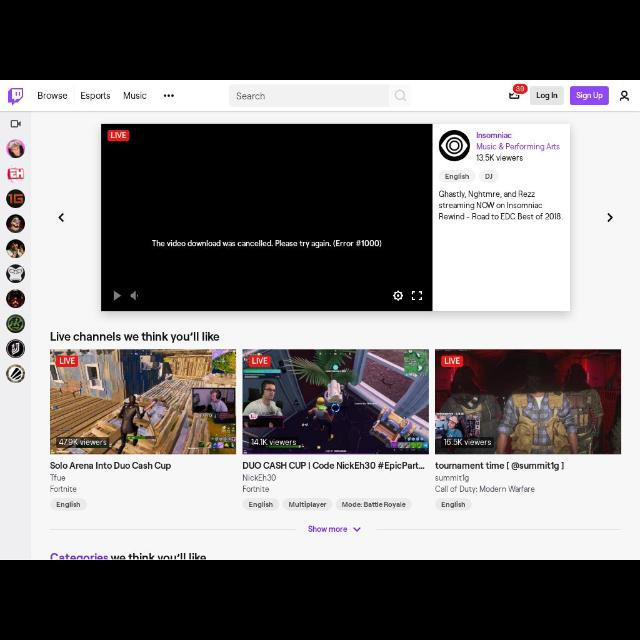button: (164, 93, 174, 99)
icon: (394, 88, 406, 102), (619, 90, 629, 102), (514, 84, 528, 92), (507, 92, 519, 100), (10, 120, 22, 128), (59, 213, 66, 223), (606, 214, 614, 222), (354, 526, 358, 532)
image: (102, 126, 432, 312), (50, 350, 234, 454), (436, 351, 620, 454), (244, 352, 428, 454), (438, 130, 470, 160), (6, 164, 26, 182), (7, 190, 25, 208), (8, 315, 26, 333), (8, 140, 24, 160), (5, 88, 22, 106), (8, 240, 24, 258), (8, 290, 24, 308), (8, 340, 24, 358), (8, 365, 24, 383), (8, 215, 24, 232), (9, 266, 25, 282)
input: (228, 85, 410, 107)
text: (439, 191, 563, 221), (48, 332, 220, 343), (242, 462, 426, 470), (51, 462, 171, 472), (51, 554, 207, 560), (478, 142, 560, 152), (436, 463, 566, 469), (436, 486, 534, 492), (342, 502, 406, 508), (478, 154, 524, 162), (307, 525, 347, 533), (81, 91, 111, 101), (476, 131, 512, 139), (436, 476, 469, 484), (38, 92, 68, 100), (237, 92, 266, 100), (50, 486, 78, 494), (290, 502, 326, 508), (124, 91, 146, 99), (445, 173, 469, 180), (243, 486, 269, 492), (56, 502, 80, 508), (249, 502, 273, 508), (442, 502, 466, 508), (242, 476, 276, 480), (50, 474, 66, 482), (486, 174, 494, 180)
textbutton: (570, 86, 610, 105), (530, 86, 564, 105)
toolbar: (1, 80, 639, 110)
